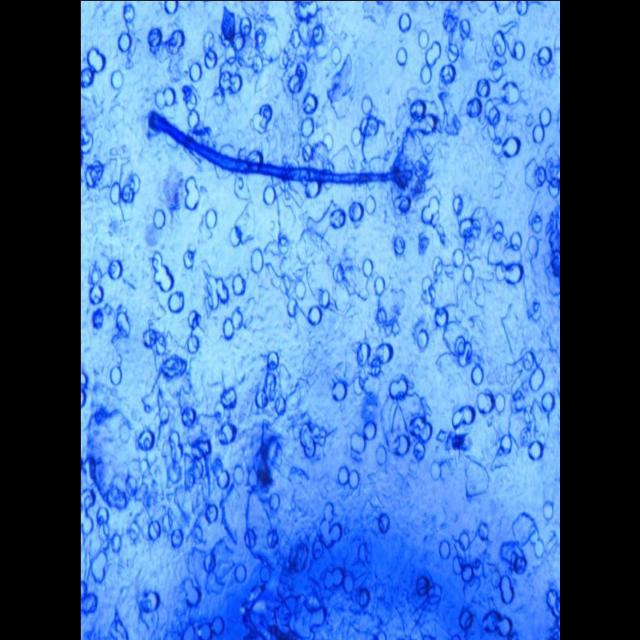Fibre: (146, 105, 430, 199)
